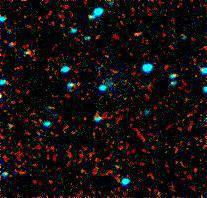star: (122, 20, 152, 50)
